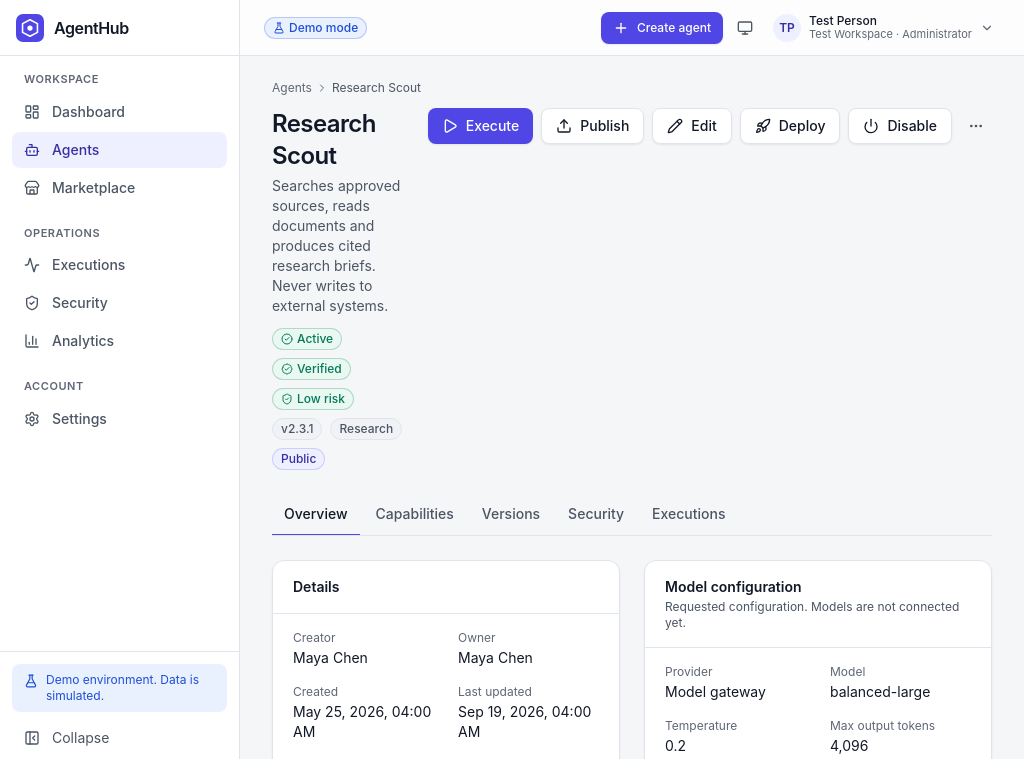
Scenario: starting a run › says only read-only requests to allowed domains can run
Click the button "Execute".
click(480, 126)  # box [428,108,533,144]
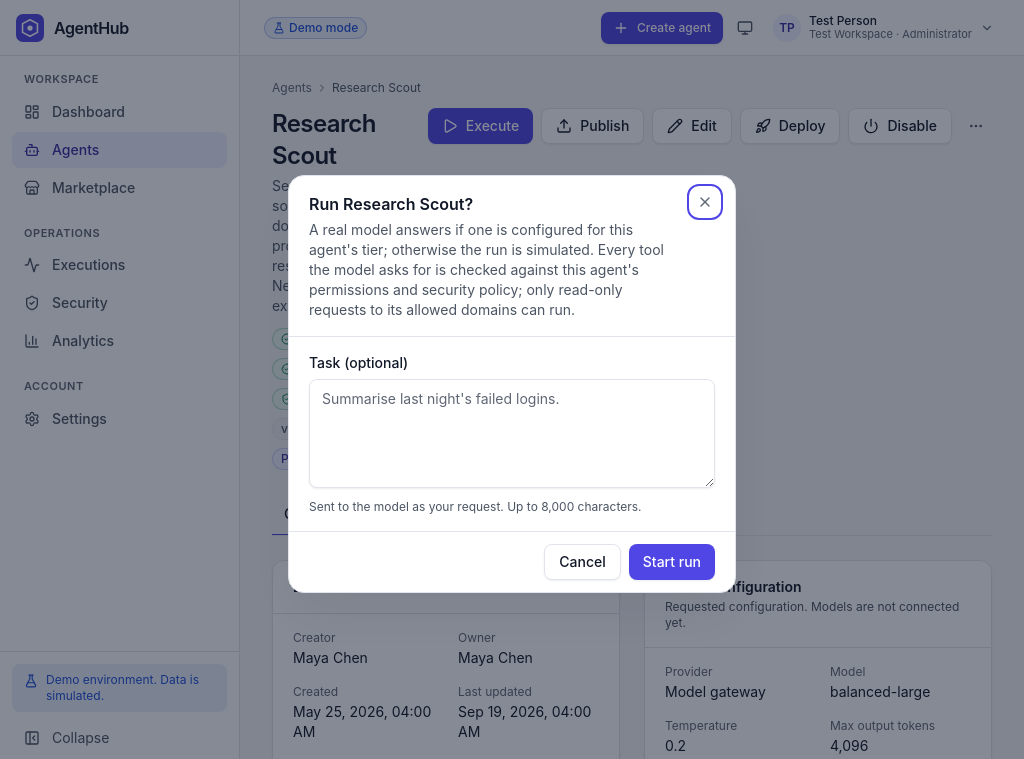
Now the text "only read-only requests to its allowed domains can run" is shown, box [309,221,664,318]
